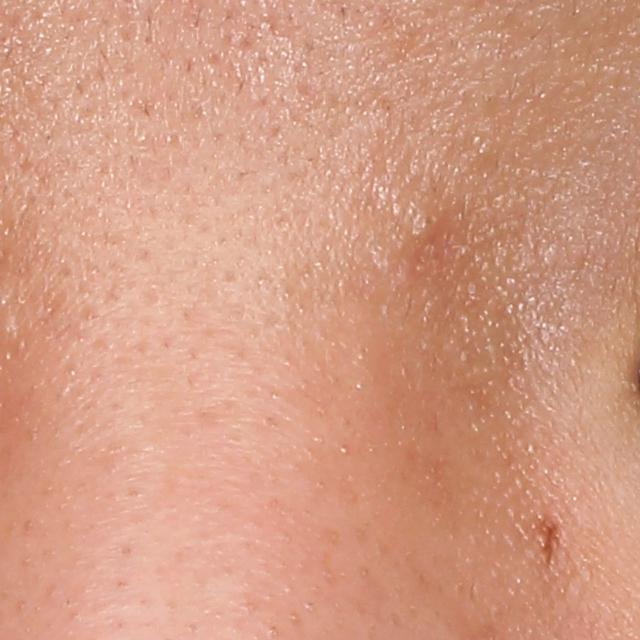comedo: (406, 207, 442, 245)
nevus: (535, 511, 564, 572)
